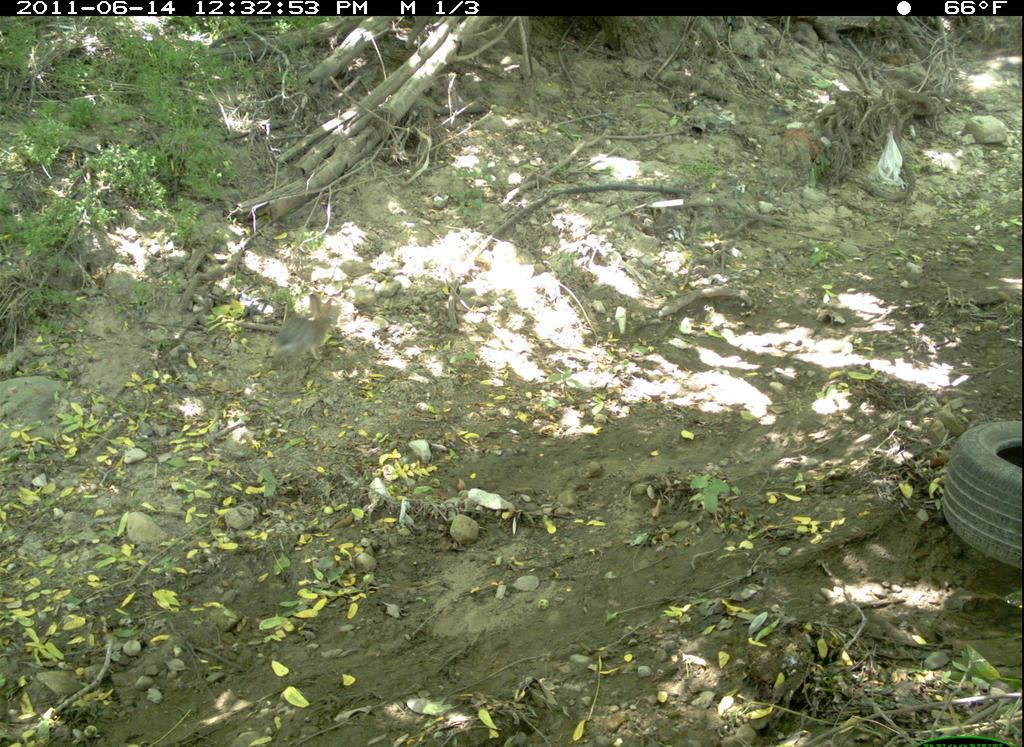rabbit: (259, 286, 359, 381)
